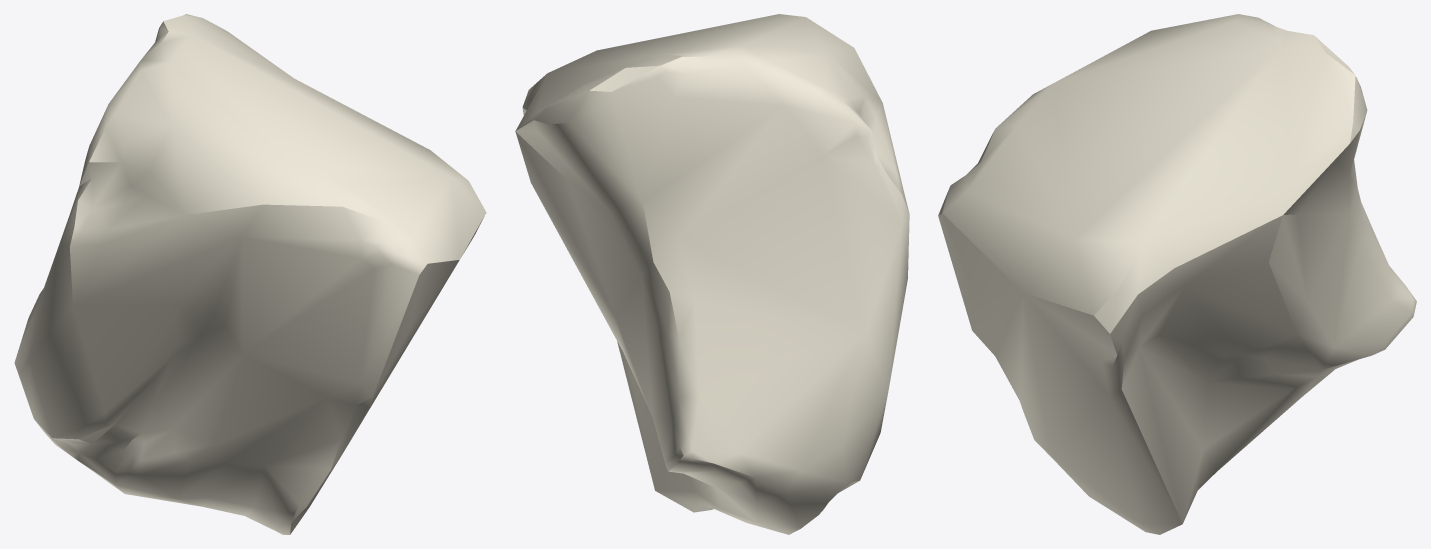
The model's file is fma24524_fj6375.glb.
3 views of the same model, side by side, from view 1: azimuth 30°, elevation 25°; view 2: azimuth 150°, elevation 25°; view 3: azimuth 270°, elevation 25° (orthographic). The views are drawn at different scales.
Visible parts, largest first — view 1: FMA24524_FJ6375; view 2: FMA24524_FJ6375; view 3: FMA24524_FJ6375.
Part boxes in pixels (x1=…): FMA24524_FJ6375: x1=14, y1=14, x2=486, y2=534; FMA24524_FJ6375: x1=515, y1=14, x2=909, y2=534; FMA24524_FJ6375: x1=938, y1=14, x2=1416, y2=534.
Bounding box in the file's own units: 0.0202 × 0.0232 × 0.021.
